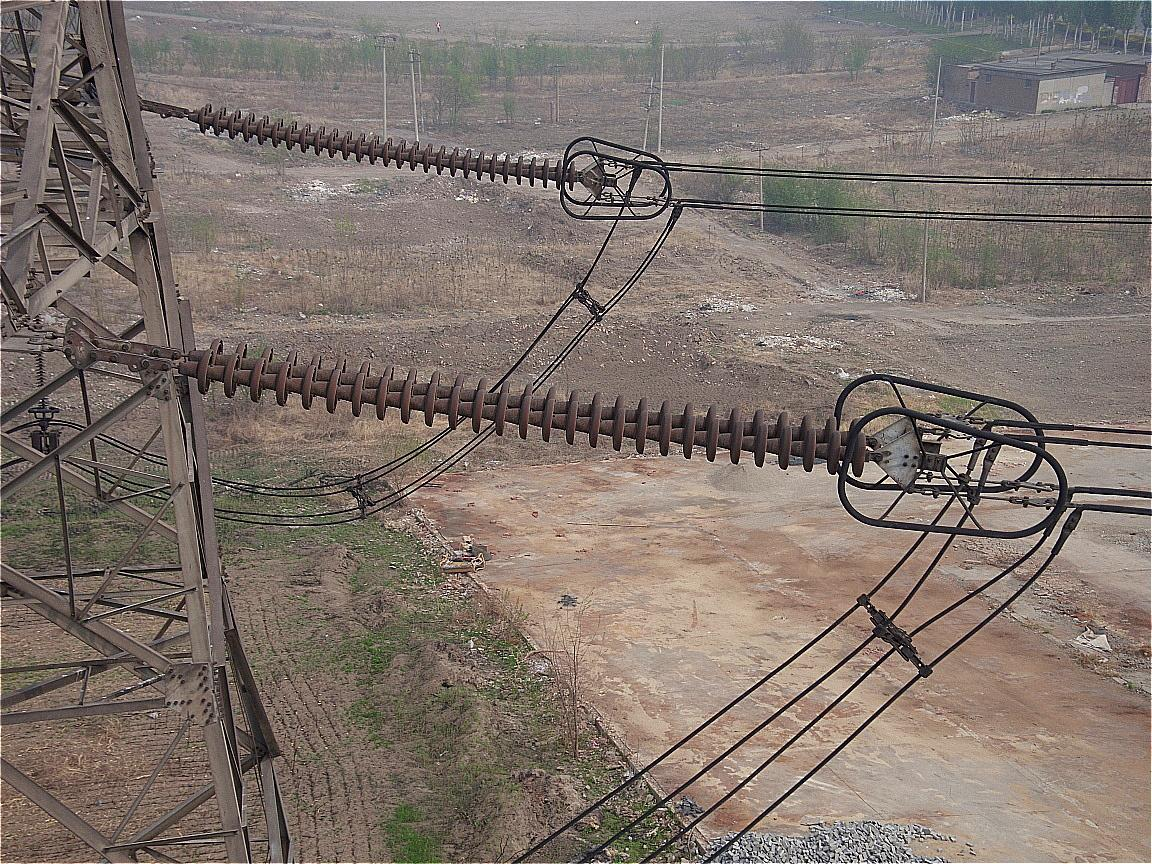insultor1: (195, 338, 867, 477), (196, 104, 576, 190)
